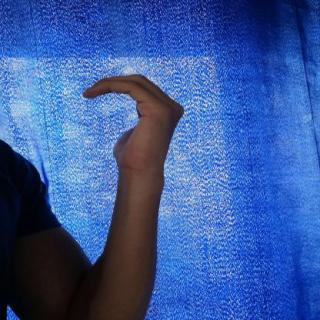HAA: (72, 68, 195, 180)
